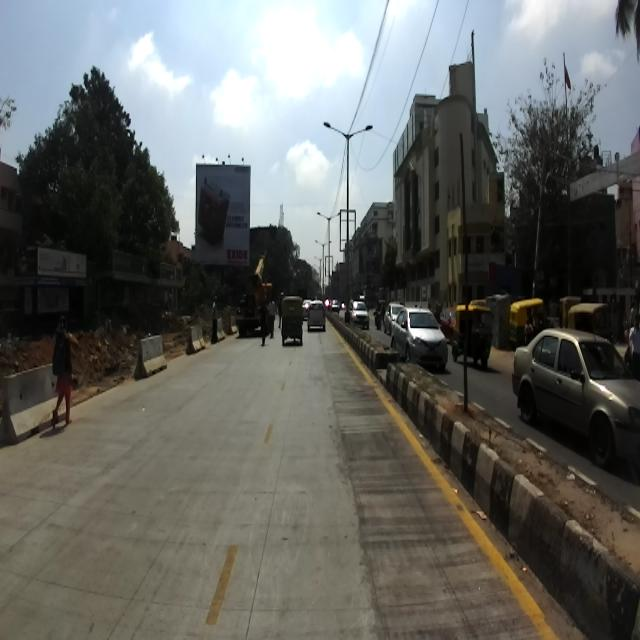auto ahead at: (279, 294, 305, 360)
barrier ahead at: (137, 328, 167, 380), (185, 317, 205, 359)
person ahead at: (45, 319, 82, 429)
